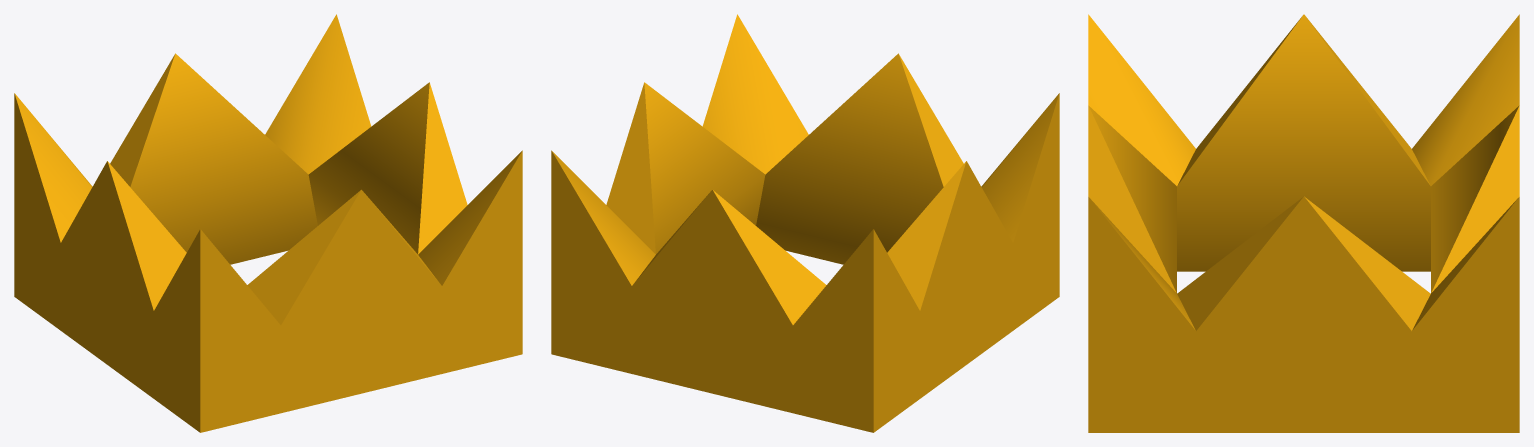
File: Crown 01.FBX
3 renders of one model, left to right at view 1: azimuth 30°, elevation 25°; view 2: azimuth 150°, elevation 25°; view 3: azimuth 270°, elevation 25°, orthographic. The views are drawn at different scales.
Visible parts, largest first — view 1: Crown 01; view 2: Crown 01; view 3: Crown 01.
Part boxes in pixels (left/top/right/bottom): Crown 01: left=14, top=14, right=522, bottom=432; Crown 01: left=551, top=14, right=1059, bottom=432; Crown 01: left=1088, top=14, right=1519, bottom=432.
Size of the model in its own units: 33.3 by 20.16 by 33.3.
1 material, 1 textured.
